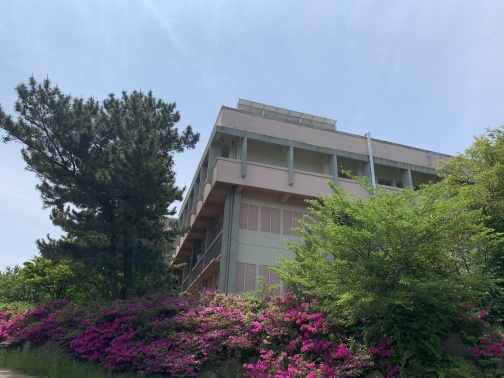College Of Education: (165, 79, 502, 307)
